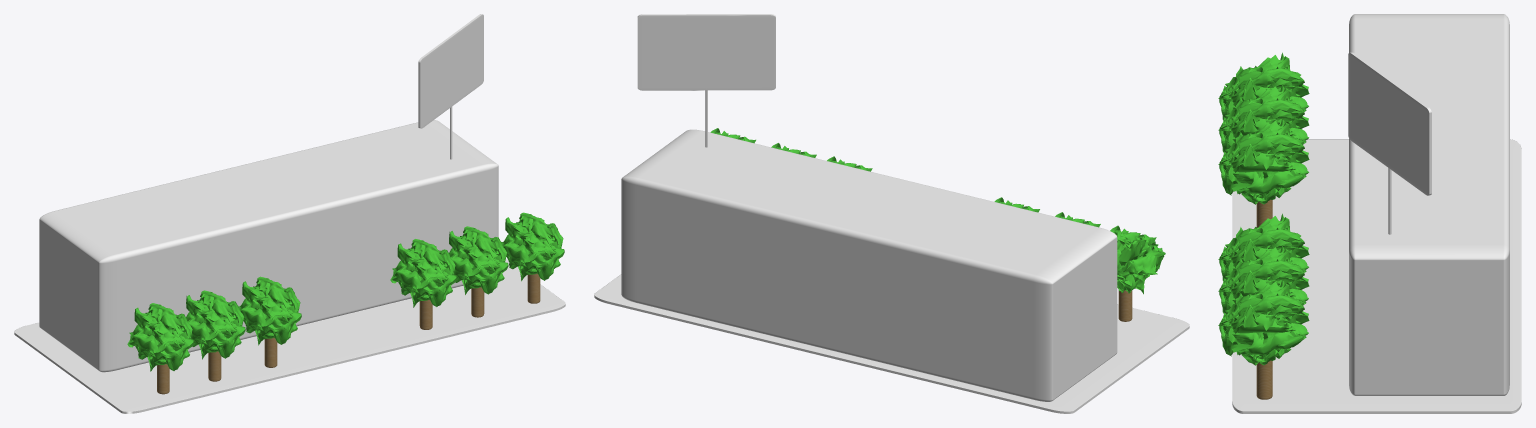
The model's file is mall3.glb.
3 renders of one model, left to right at view 1: azimuth 30°, elevation 25°; view 2: azimuth 150°, elevation 25°; view 3: azimuth 270°, elevation 25°, orthographic. The views are drawn at different scales.
Parts seen in each view (by area): view 1: house, land, Torus 3 (×6), Torus 2 (×6), Torus (×6), sign; view 2: house, sign, land, Torus 3, Torus; view 3: house, land, Torus 2 (×6), sign, Torus 3 (×6), Torus (×6), Torus 1 (×6), stump (×2).
Boxes of the visible parts, <box> form: house: <box>39,120,498,372</box>; land: <box>14,259,565,413</box>; Torus 3 (×6): <box>127,234,561,370</box>; Torus 2 (×6): <box>145,212,564,371</box>; Torus (×6): <box>134,217,556,352</box>; sign: <box>418,14,483,128</box>; house: <box>621,129,1117,401</box>; sign: <box>637,14,775,90</box>; land: <box>594,274,1189,413</box>; Torus 3: <box>1117,245,1165,282</box>; Torus: <box>1117,234,1158,288</box>; house: <box>1349,14,1509,395</box>; land: <box>1232,139,1521,413</box>; Torus 2 (×6): <box>1225,66,1309,358</box>; sign: <box>1348,52,1431,195</box>; Torus 3 (×6): <box>1219,66,1308,356</box>; Torus (×6): <box>1219,52,1290,365</box>; Torus 1 (×6): <box>1218,78,1296,339</box>; stump (×2): <box>1256,199,1272,399</box>.
Size of the model in its own units: 2.01 by 1.03 by 0.9434.
34 materials, 6 textured.
